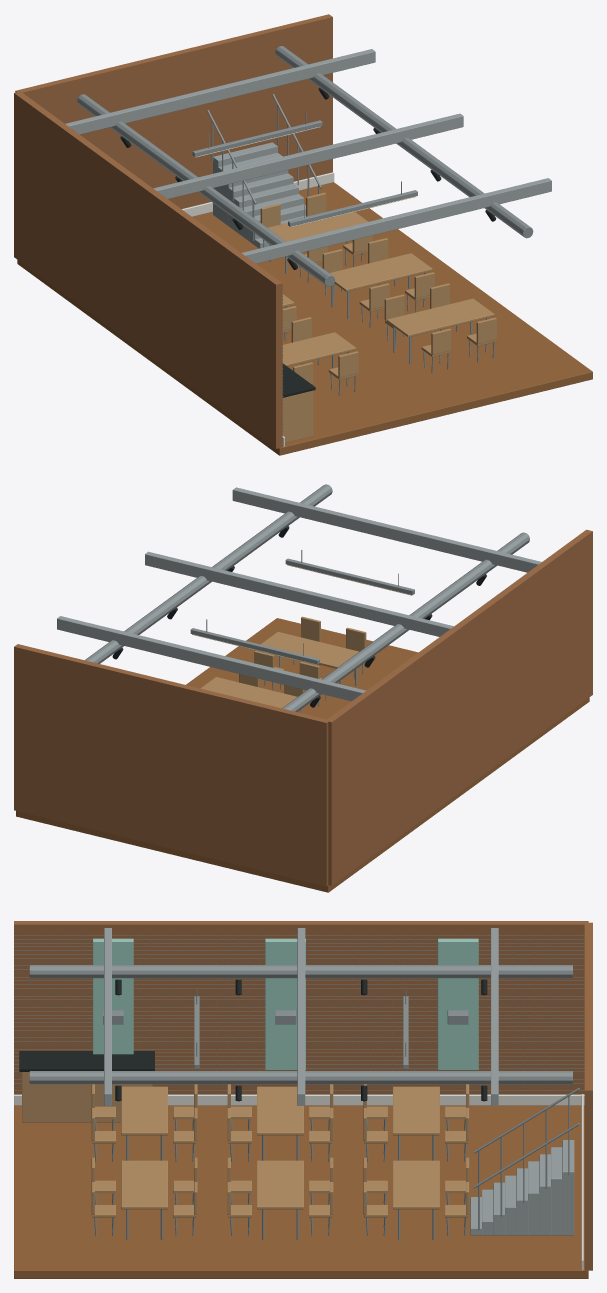
Rendered from col-interior-5317388f80f6.glb.
3 renders of one model, top to bottom at view 1: azimuth 30°, elevation 25°; view 2: azimuth 150°, elevation 25°; view 3: azimuth 270°, elevation 25°, orthographic. The views are drawn at different scales.
Visible parts, largest first — view 1: COL.001; view 2: COL.001; view 3: COL.001.
Part boxes in pixels (x1=…): COL.001: x1=14, y1=14, x2=592, y2=455; COL.001: x1=14, y1=484, x2=592, y2=892; COL.001: x1=14, y1=921, x2=592, y2=1278.
Size of the model in its own units: 7.68 by 3.98 by 11.08.
